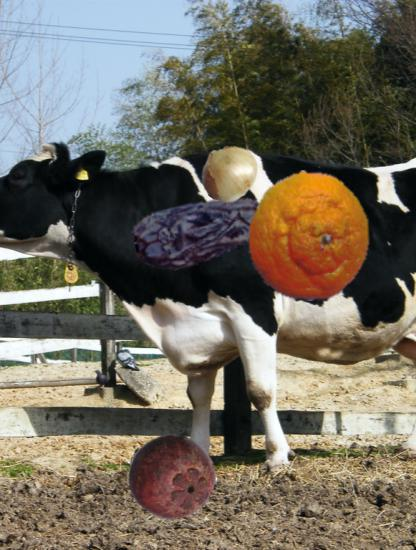Dates: (134, 167, 266, 299)
Mandarine: (243, 170, 375, 302)
Mangostan: (127, 432, 217, 522)
Onion: (198, 142, 259, 203)
